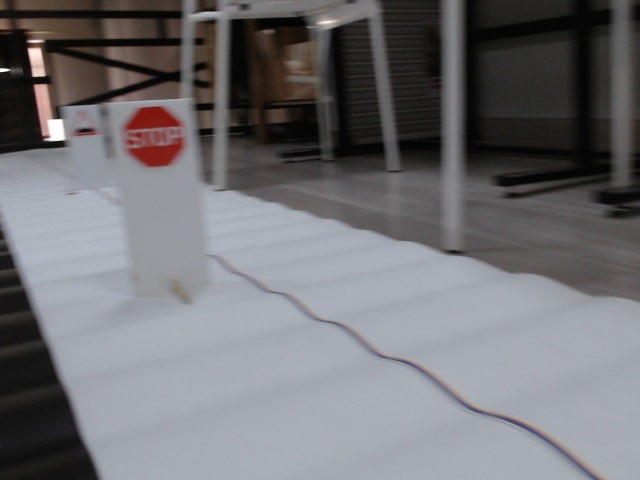Stop: (123, 107, 187, 168)
